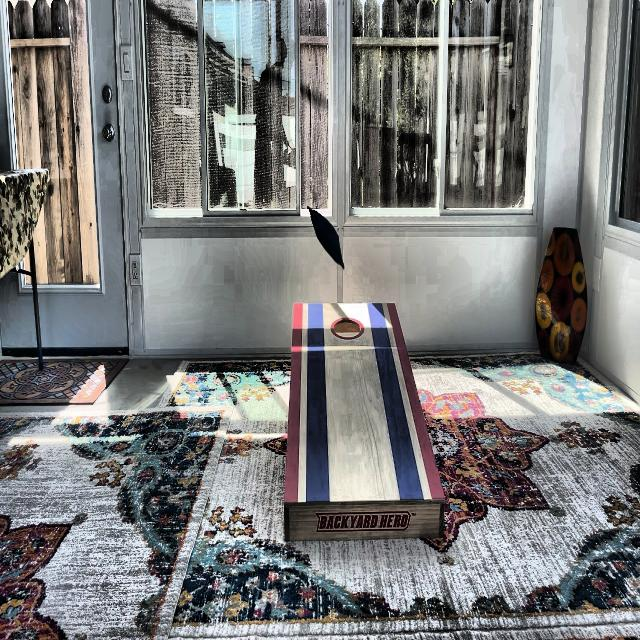blue-bean-bag: (310, 210, 344, 269)
board: (290, 304, 408, 499)
hole: (330, 317, 364, 340)
